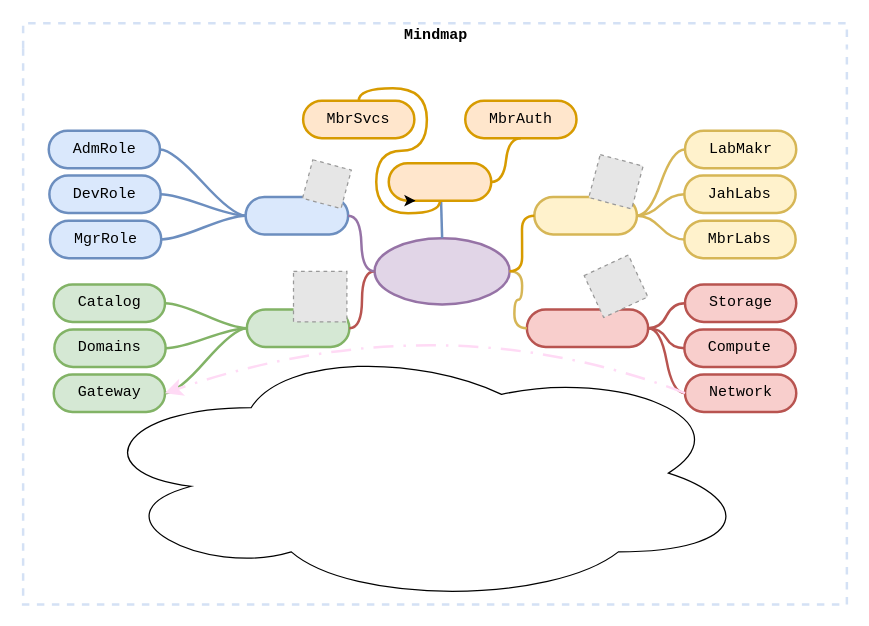
Some shapes in this 869 by 626 pixel diagram are drawn without their labels. Grey dashed boxes stand in for pictures. The shapes that lost their labels are listed below. From the top down, each one's centre as x and y in pixels, then its label:
(x=439, y=181): ArkMbr
(x=296, y=215): ArkAdm
(x=585, y=215): ArkLab
(x=441, y=270): OnlyJah's Ark
(x=297, y=328): ArkSpc
(x=587, y=328): ArkInfra
(x=417, y=472): Vessel of dreams, creations, and the spaces between.
